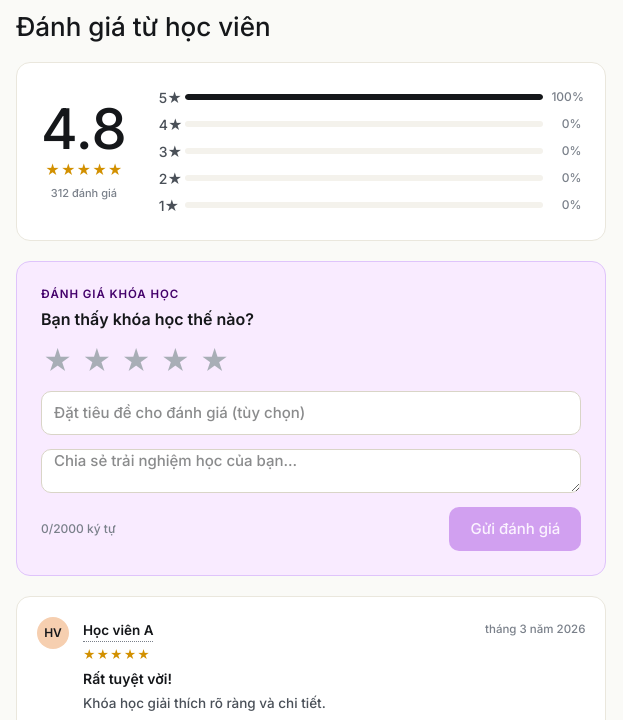
Scenario: CourseDetailPage › write review block › clicking a star sets rating and enables submit button
This screenshot has width=623, height=720.
(page scrolled)
Expected: the element with test id "write-review-block" is shown, [16,260,606,576]
Click the button with test id "star-input-5".
click(215, 361)  # box [198,345,231,377]
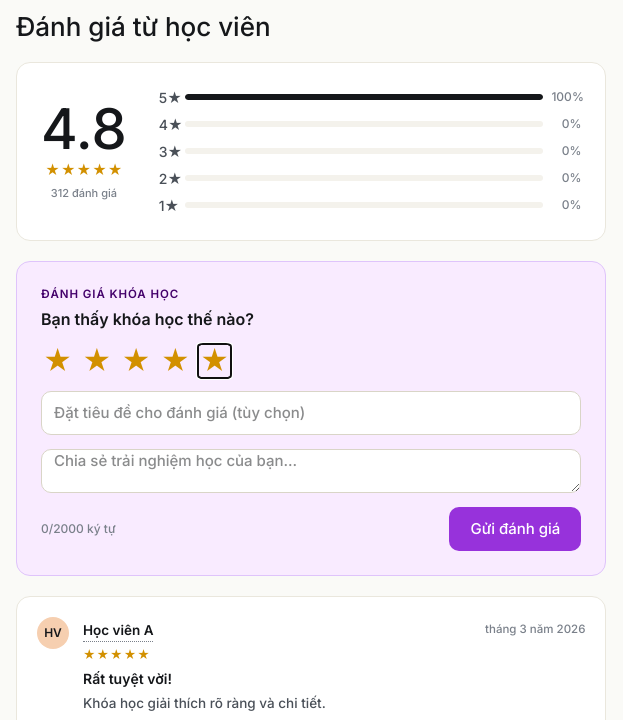
Expected: the button with test id "submit-review-btn" is enabled, [450,507,581,551]
